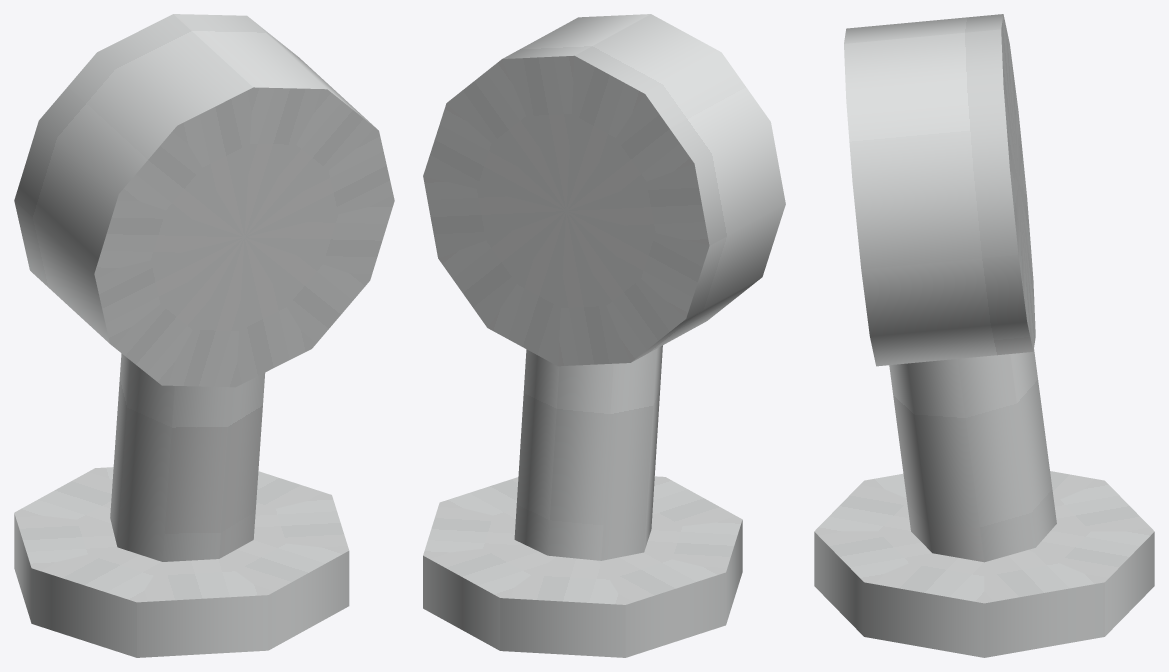
The model's file is trusssignalarm_stub_28.obj.
The picture shows the model from 3 angles, left to right: view 1: azimuth 30°, elevation 25°; view 2: azimuth 150°, elevation 25°; view 3: azimuth 270°, elevation 25°; orthographic projection. The views are drawn at different scales.
Visible parts, largest first — view 1: trusssignalarm_stub_28; view 2: trusssignalarm_stub_28; view 3: trusssignalarm_stub_28.
Part boxes in pixels (bbox=[...]): trusssignalarm_stub_28: bbox=[14, 14, 394, 657]; trusssignalarm_stub_28: bbox=[423, 14, 785, 657]; trusssignalarm_stub_28: bbox=[814, 14, 1154, 657].
Size of the model in its own units: 0.35 by 0.6312 by 0.35.
